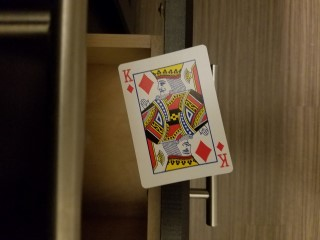KingOfDiamonds: (117, 43, 234, 189)
